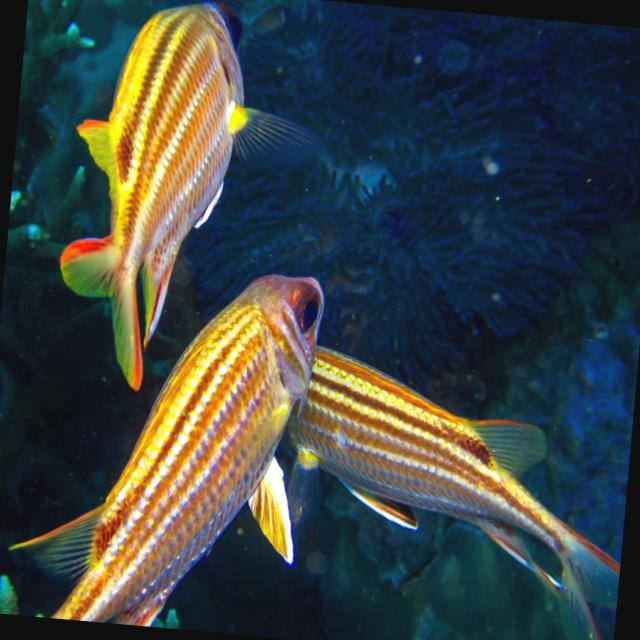Asker Baligi: (0, 231, 340, 640), (14, 0, 276, 402)
